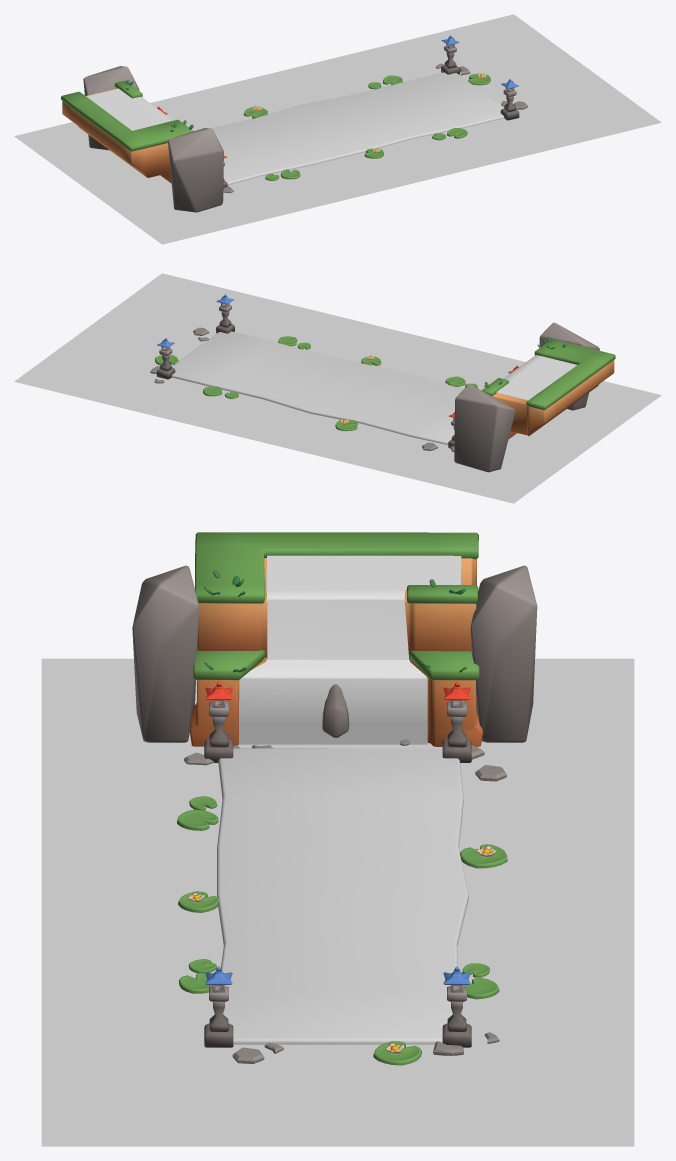
Rendered from Arena3.fbx.
The picture shows the model from 3 angles, top to bottom: view 1: azimuth 30°, elevation 25°; view 2: azimuth 150°, elevation 25°; view 3: azimuth 270°, elevation 25°; orthographic projection. The views are drawn at different scales.
Parts seen in each view (by area): view 1: Plane.040, Plane.020, Icosphere.001, Cube.064, Cube.062, Cube.065, Icosphere, Cube.068; view 2: Plane.040, Plane.020, Icosphere, Cube.064, Cube.062, Cube.065, Cube.068, Icosphere.001; view 3: Plane.040, Plane.020, Cube.065, Cube.064, Icosphere.001, Icosphere, Cube.062, Cube.061, Cube.063, Cube.068, Cube.067, Cube.066 (+2 smaller).
Part boxes in pixels (box(x1,y1,x2,y2)): Plane.040: box(14, 14, 661, 244); Plane.020: box(210, 72, 504, 185); Icosphere.001: box(168, 128, 223, 212); Cube.064: box(61, 80, 193, 151); Cube.062: box(62, 88, 170, 177); Cube.065: box(86, 88, 173, 130); Icosphere: box(83, 66, 139, 150); Cube.068: box(441, 35, 519, 120); Plane.040: box(14, 273, 661, 503); Plane.020: box(171, 331, 463, 444); Icosphere: box(454, 384, 515, 472); Cube.064: box(481, 339, 615, 410); Cube.062: box(492, 360, 614, 436); Cube.065: box(496, 355, 576, 400); Cube.068: box(156, 294, 234, 379); Icosphere.001: box(539, 322, 599, 410); Plane.040: box(41, 658, 634, 1146); Plane.020: box(217, 748, 468, 1044); Cube.065: box(239, 555, 461, 744); Cube.064: box(195, 532, 478, 603); Icosphere.001: box(132, 565, 199, 742); Icosphere: box(470, 565, 537, 742); Cube.062: box(197, 558, 476, 658); Cube.061: box(190, 657, 482, 746); Cube.063: box(193, 650, 479, 680); Cube.068: box(204, 966, 471, 1047); Cube.067: box(204, 681, 471, 762); Cube.066: box(322, 684, 349, 737).
Bounding box in the file's own units: 55.76 × 10.32 × 28.63.
